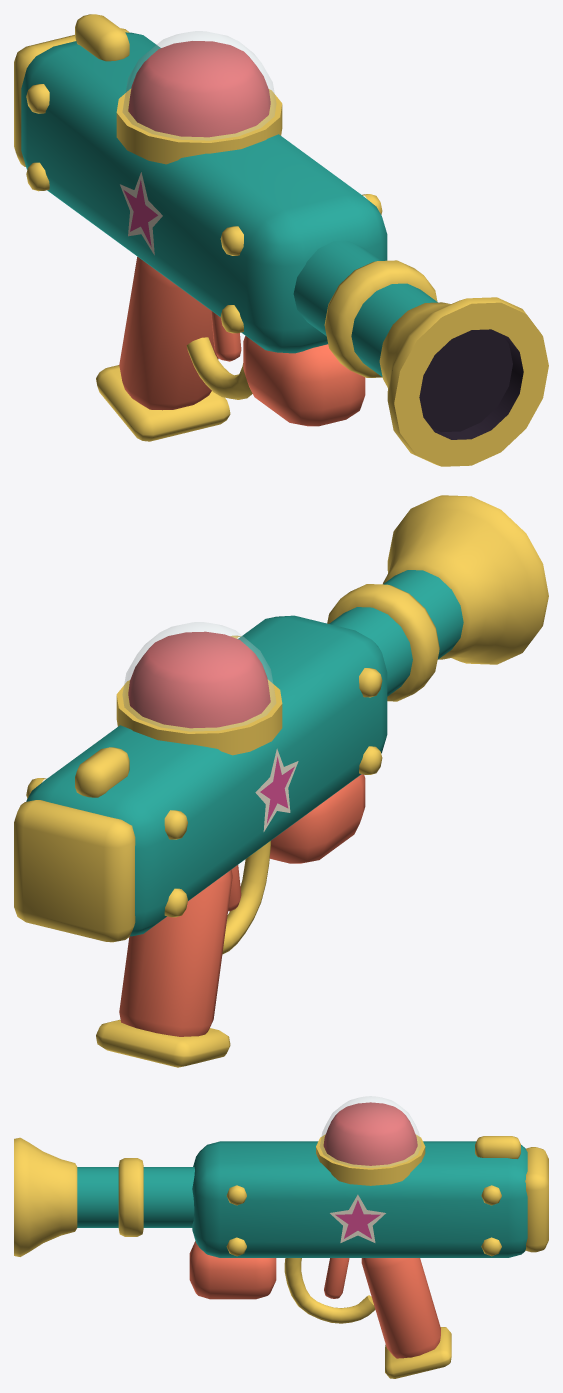
The model's file is paint_blaster.glb.
3 renders of one model, top to bottom at view 1: azimuth 30°, elevation 25°; view 2: azimuth 150°, elevation 25°; view 3: azimuth 270°, elevation 25°, orthographic. The views are drawn at different scales.
Visible parts, largest first — view 1: paint_blaster, paint_tank, trigger; view 2: paint_blaster, paint_tank; view 3: paint_blaster, paint_tank, trigger.
Boxes of the visible parts, x1,y1,x2,y2 form: paint_blaster: [14, 14, 548, 466]; paint_tank: [123, 31, 276, 140]; trigger: [211, 310, 241, 361]; paint_blaster: [14, 495, 548, 1067]; paint_tank: [122, 622, 275, 731]; paint_blaster: [14, 1134, 548, 1378]; paint_tank: [320, 1096, 421, 1167]; trigger: [324, 1258, 349, 1298].
Bounding box in the file's own units: 0.094 × 0.2311 × 0.42.
